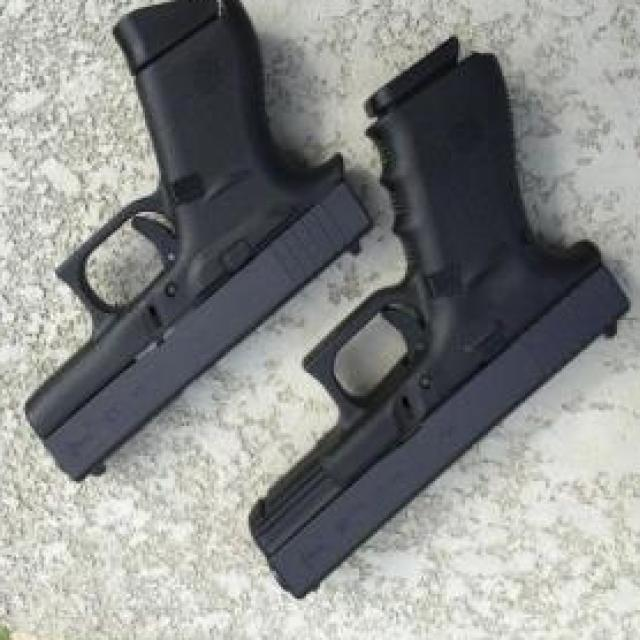pistol: (242, 33, 632, 608), (18, 0, 370, 486)
